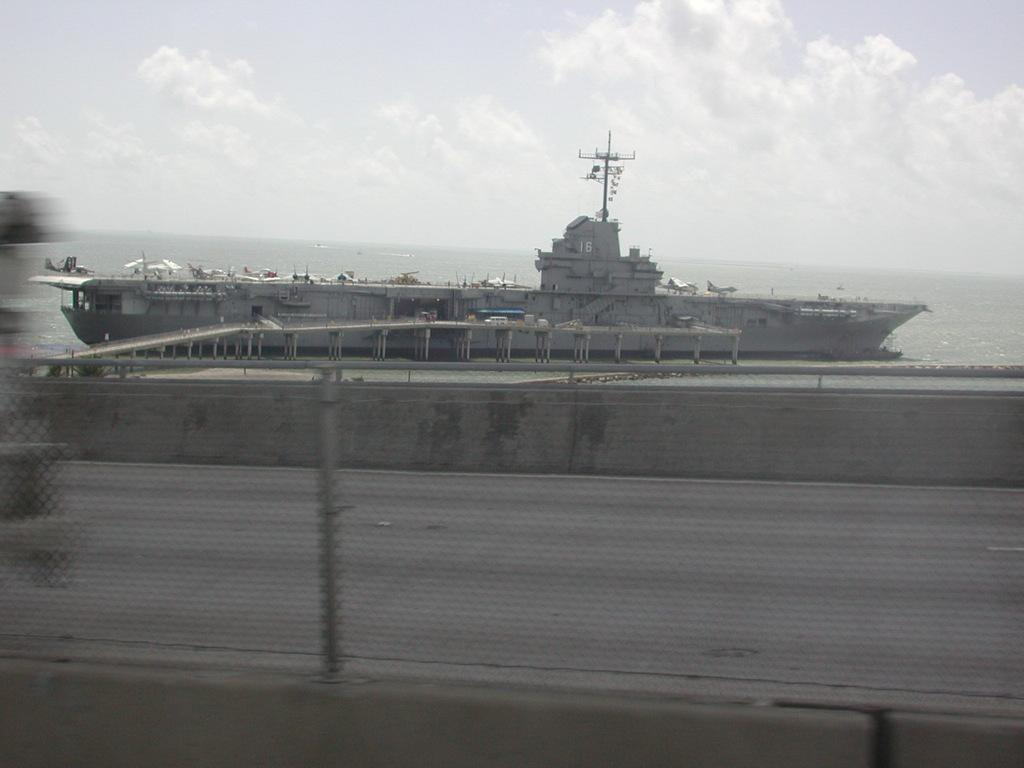Warship: (31, 140, 939, 362)
